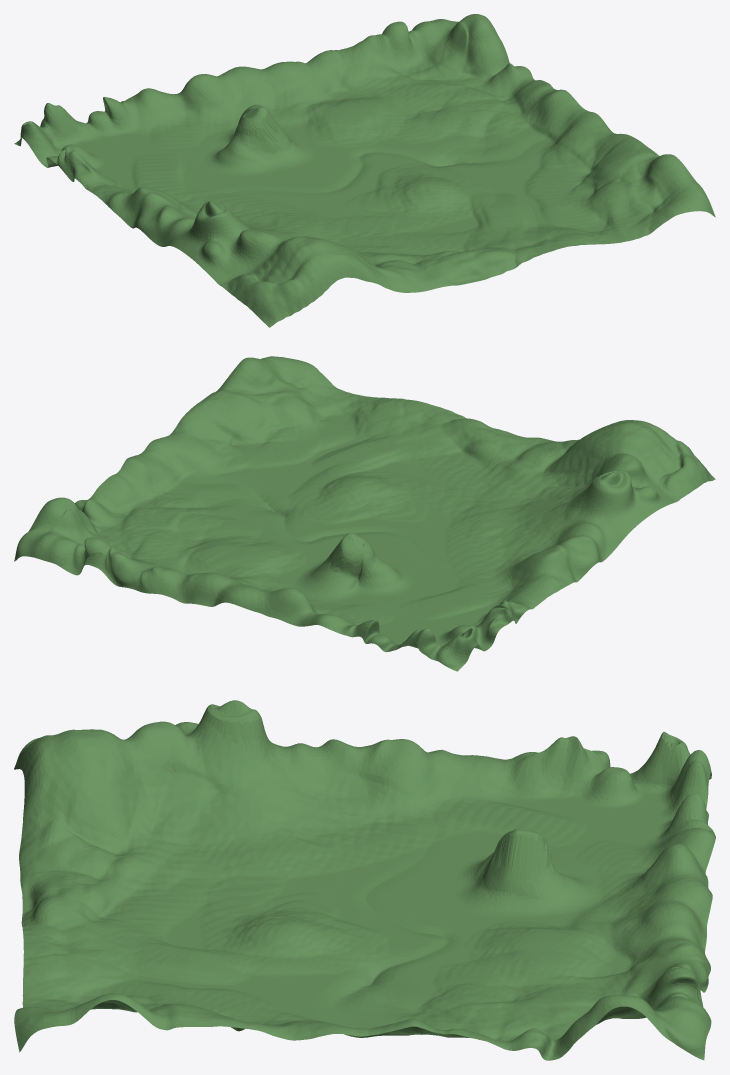
Rendered from Plain.fbx.
3 renders of one model, top to bottom at view 1: azimuth 30°, elevation 25°; view 2: azimuth 150°, elevation 25°; view 3: azimuth 270°, elevation 25°, orthographic. The views are drawn at different scales.
Parts seen in each view (by area): view 1: Plane; view 2: Plane; view 3: Plane.
Part boxes in pixels (<box>): Plane: <box>14,14,715,327</box>; Plane: <box>14,356,715,671</box>; Plane: <box>14,700,715,1060</box>.
Bounding box in the file's own units: 6738 × 1010 × 6712.
